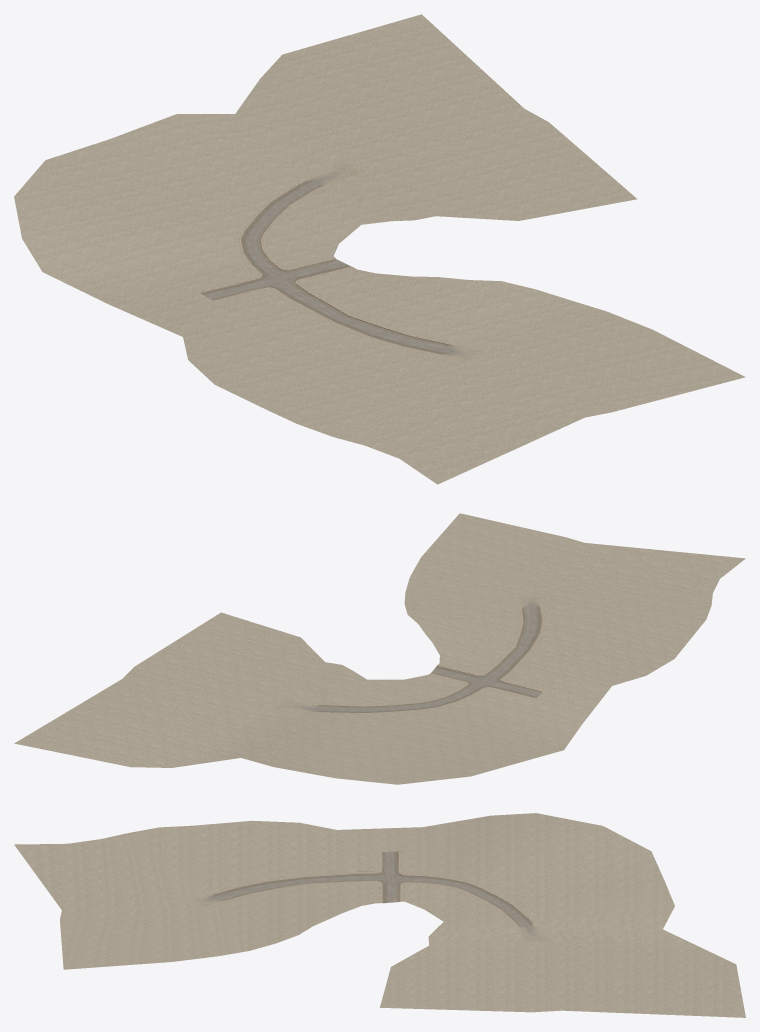
File: dimian01a.fbx
The picture shows the model from 3 angles, top to bottom: view 1: azimuth 30°, elevation 25°; view 2: azimuth 150°, elevation 25°; view 3: azimuth 270°, elevation 25°; orthographic projection. The views are drawn at different scales.
Parts seen in each view (by area): view 1: dimian01; view 2: dimian01; view 3: dimian01.
Boxes of the visible parts, x1,y1,x2,y2 form: dimian01: (14, 14, 745, 484); dimian01: (14, 513, 745, 784); dimian01: (14, 813, 745, 1017).
Size of the model in its own units: 26820 by 650 by 41153.
